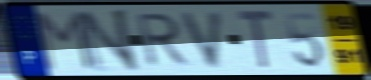5: (282, 10, 327, 69)
M: (34, 9, 97, 72)
N: (75, 7, 142, 74)
R: (135, 11, 193, 70)
T: (235, 8, 276, 72)
V: (178, 9, 227, 71)
